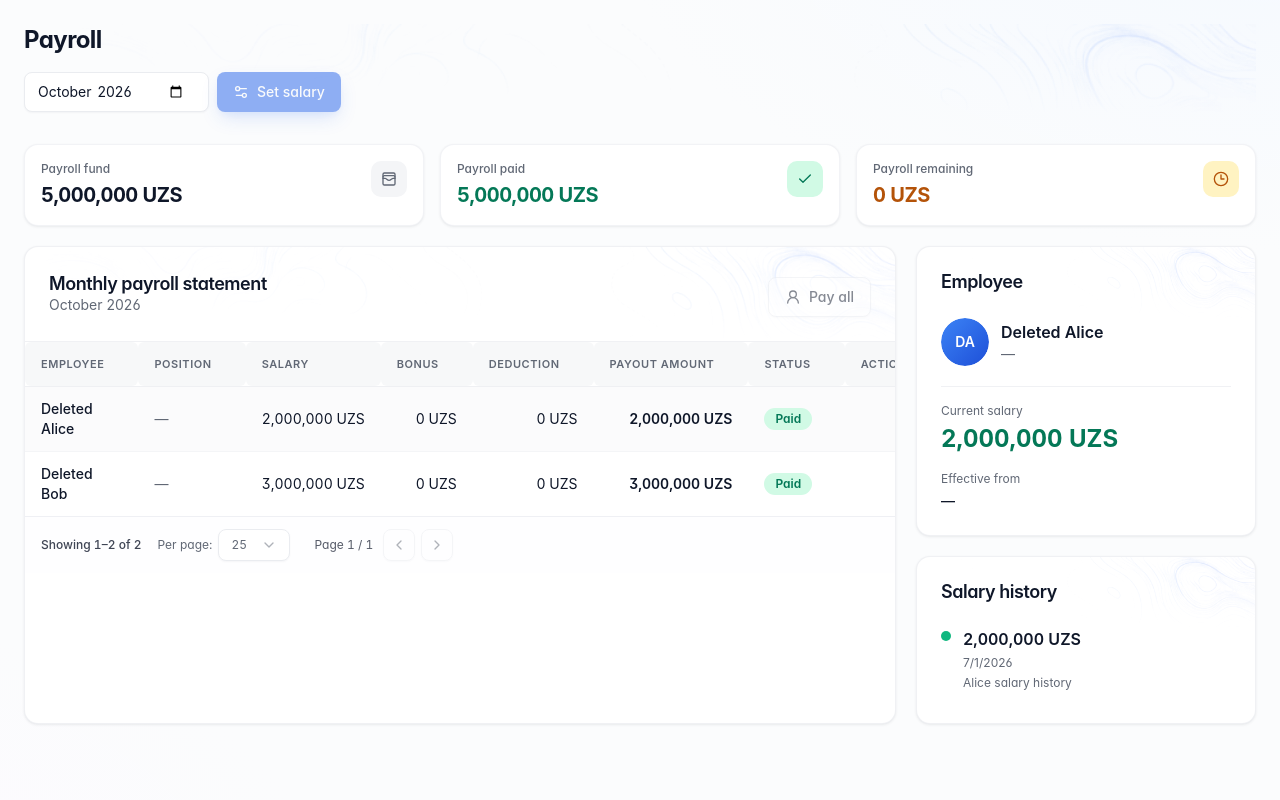
Test: selects separate deleted employees and shows only the matching salary snapshot history
Expected: the text "Alice salary history" is shown, [963, 675, 1081, 691]
Expected: the text "Bob salary history" is not shown
Step 1. Click the text "Deleted Bob" → x=67, y=483, box [41, 464, 93, 502]
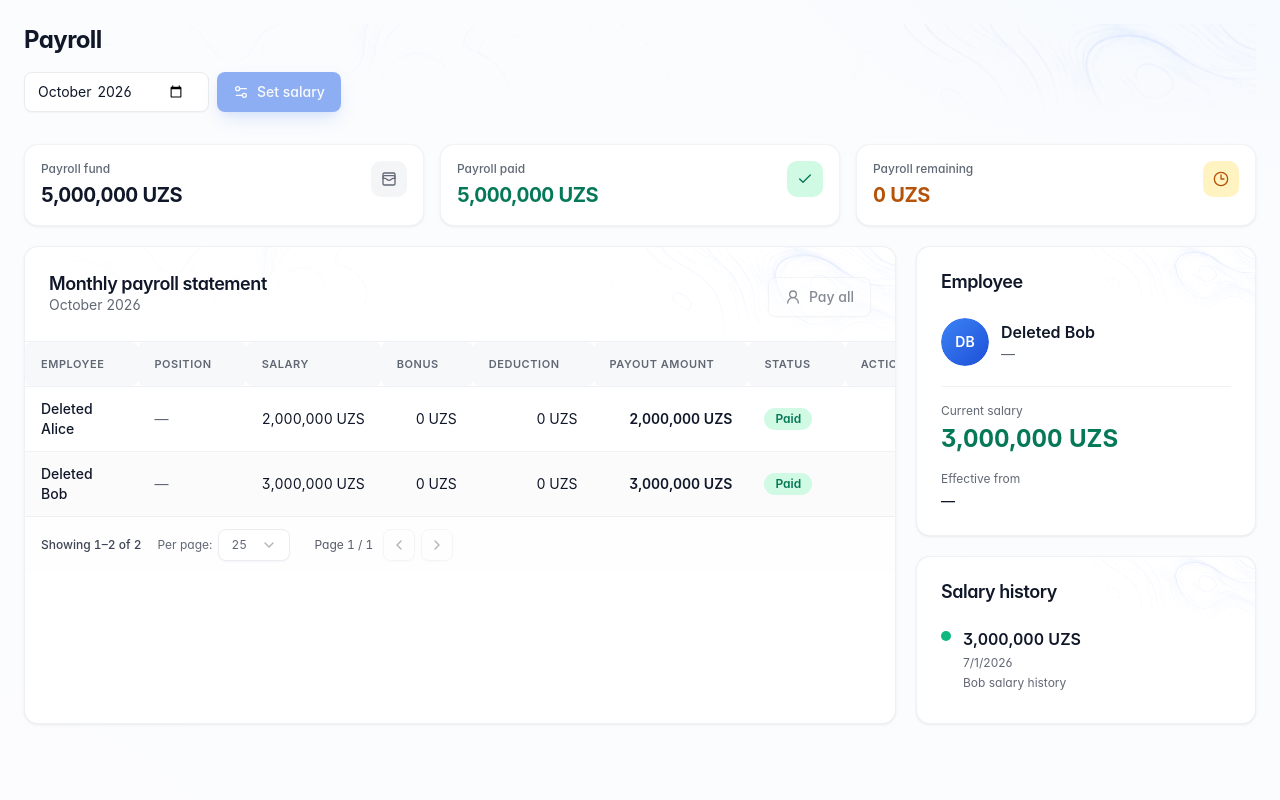
Expected: the button "Set salary" is disabled, [217, 72, 341, 112]
Result: the text "Bob salary history" is shown at [963, 675, 1081, 691]
Result: the text "Alice salary history" is gone
